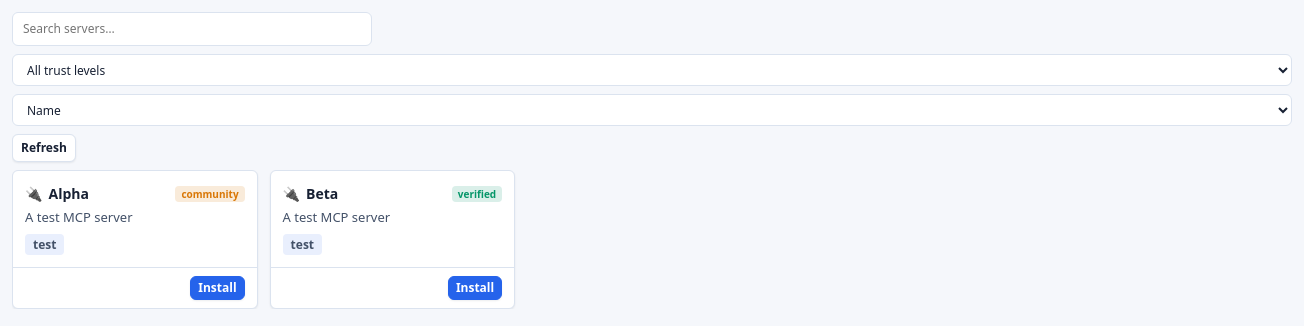
Test: CatalogList.vue › sorting › sorts by trust descending when trust sort is selected
Select "Trust" in the dropdown with test id "catalog-sort" at x=652, y=110, box [12,94,1292,126]
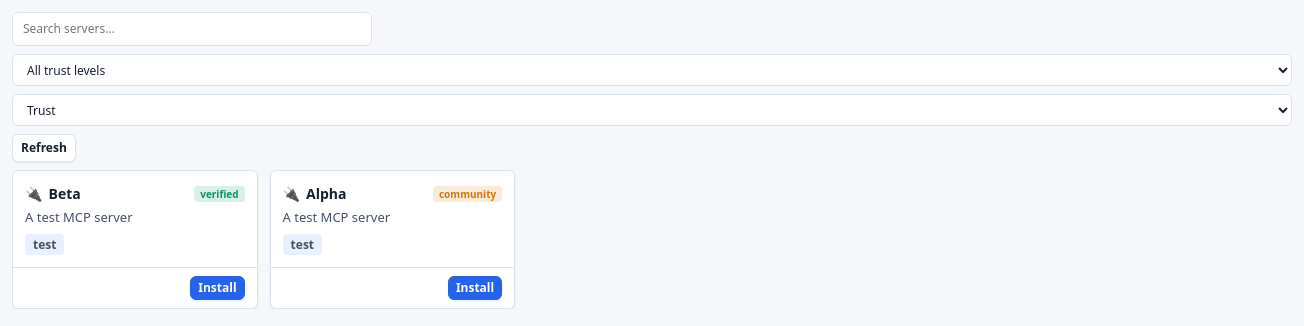
expect the elements with class "display-name" read "Beta", "Alpha", in this order: met, box [48,183,81,204]; [306,183,347,204]
